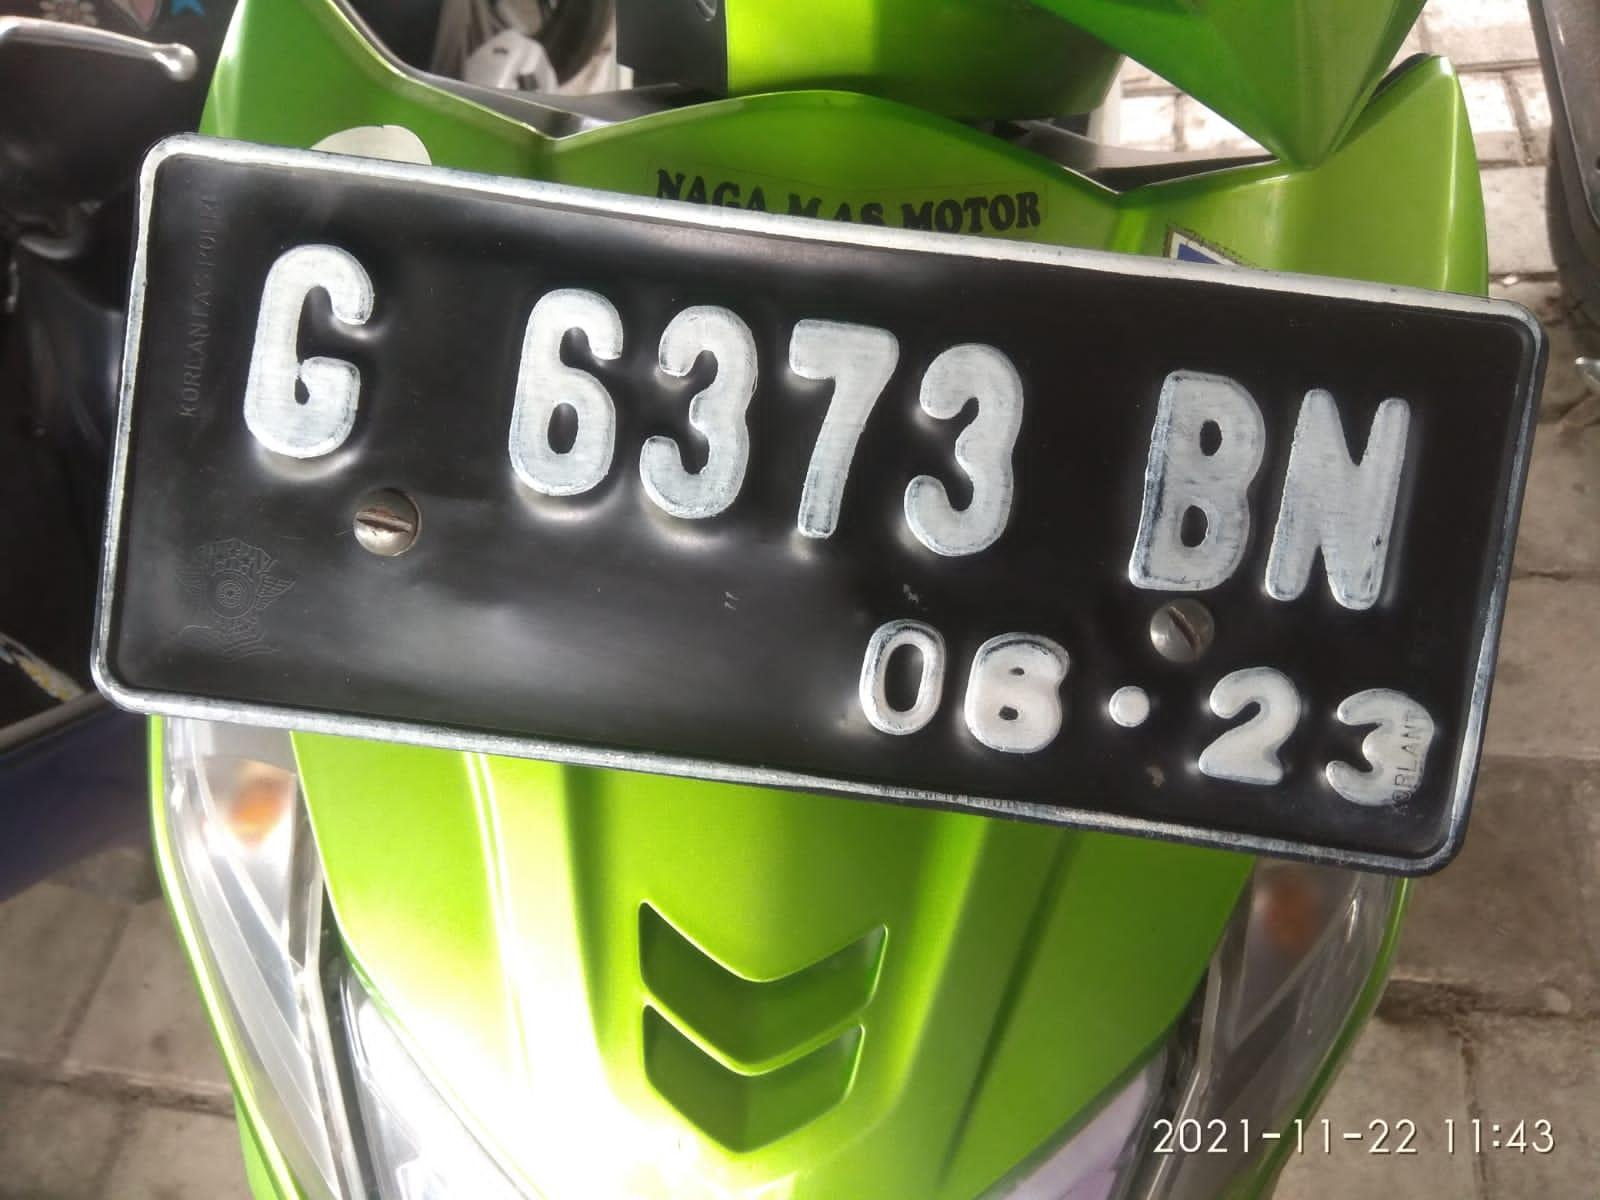plat: (97, 138, 1544, 875)
